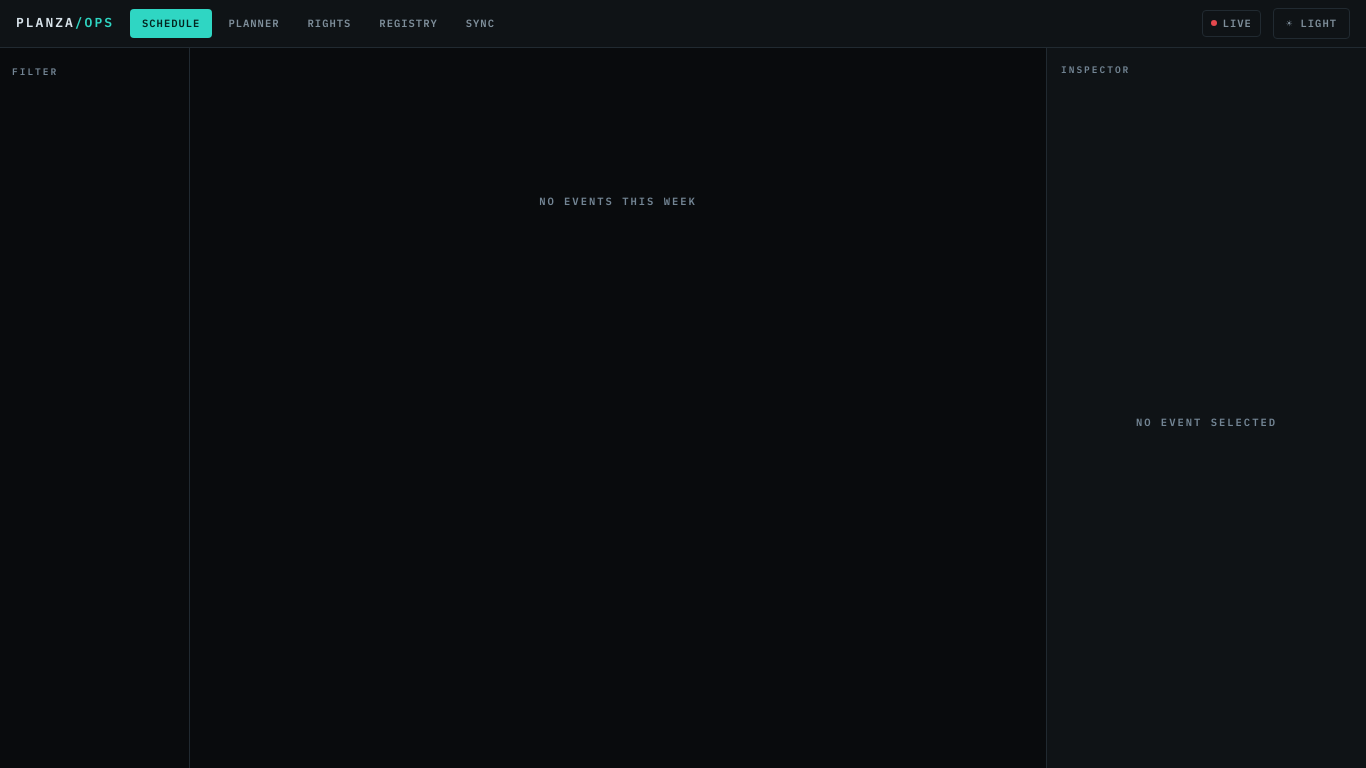
routing inside the shell › tab rights reaches its screen
Click the link "RIGHTS" at (329, 23), box [308,16,351,30]
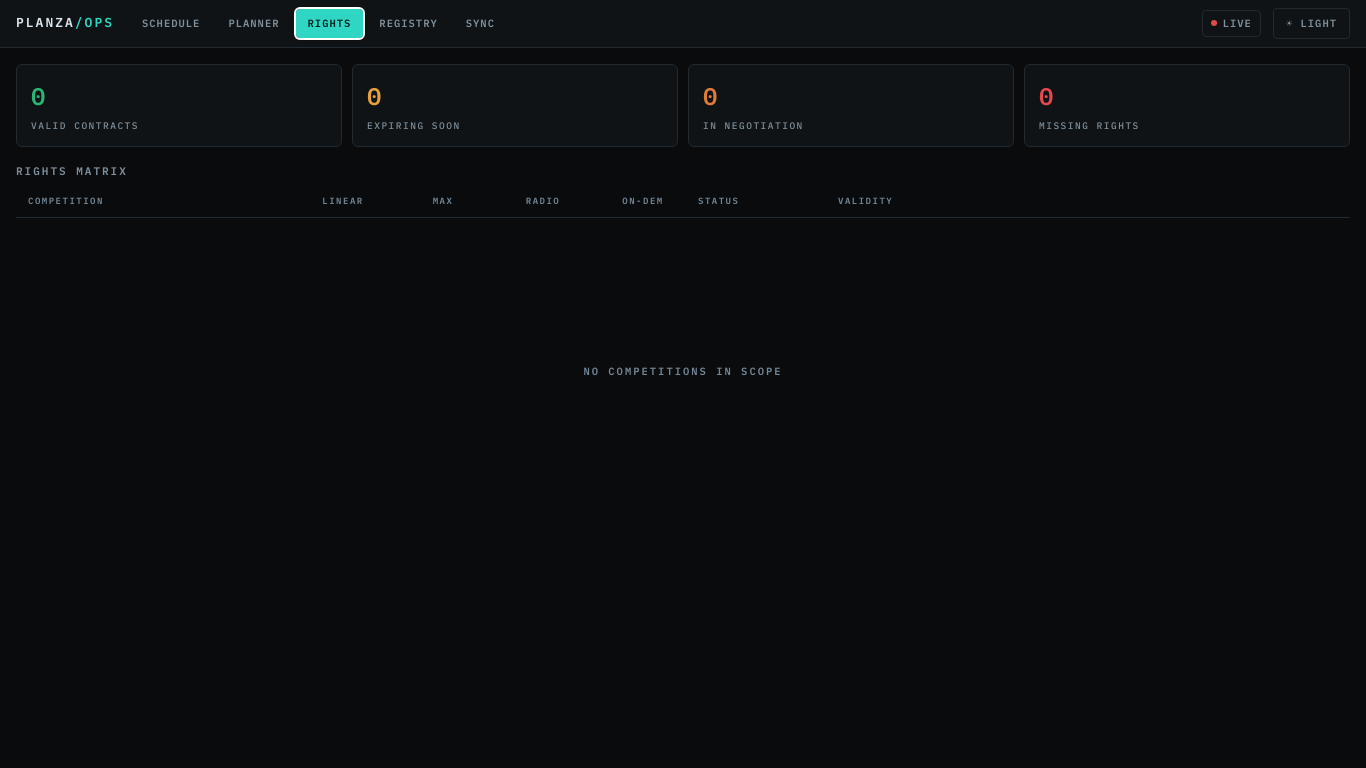
Check: the element with test id "ops-screen-rights" is shown, box [16,64,1350,378]
